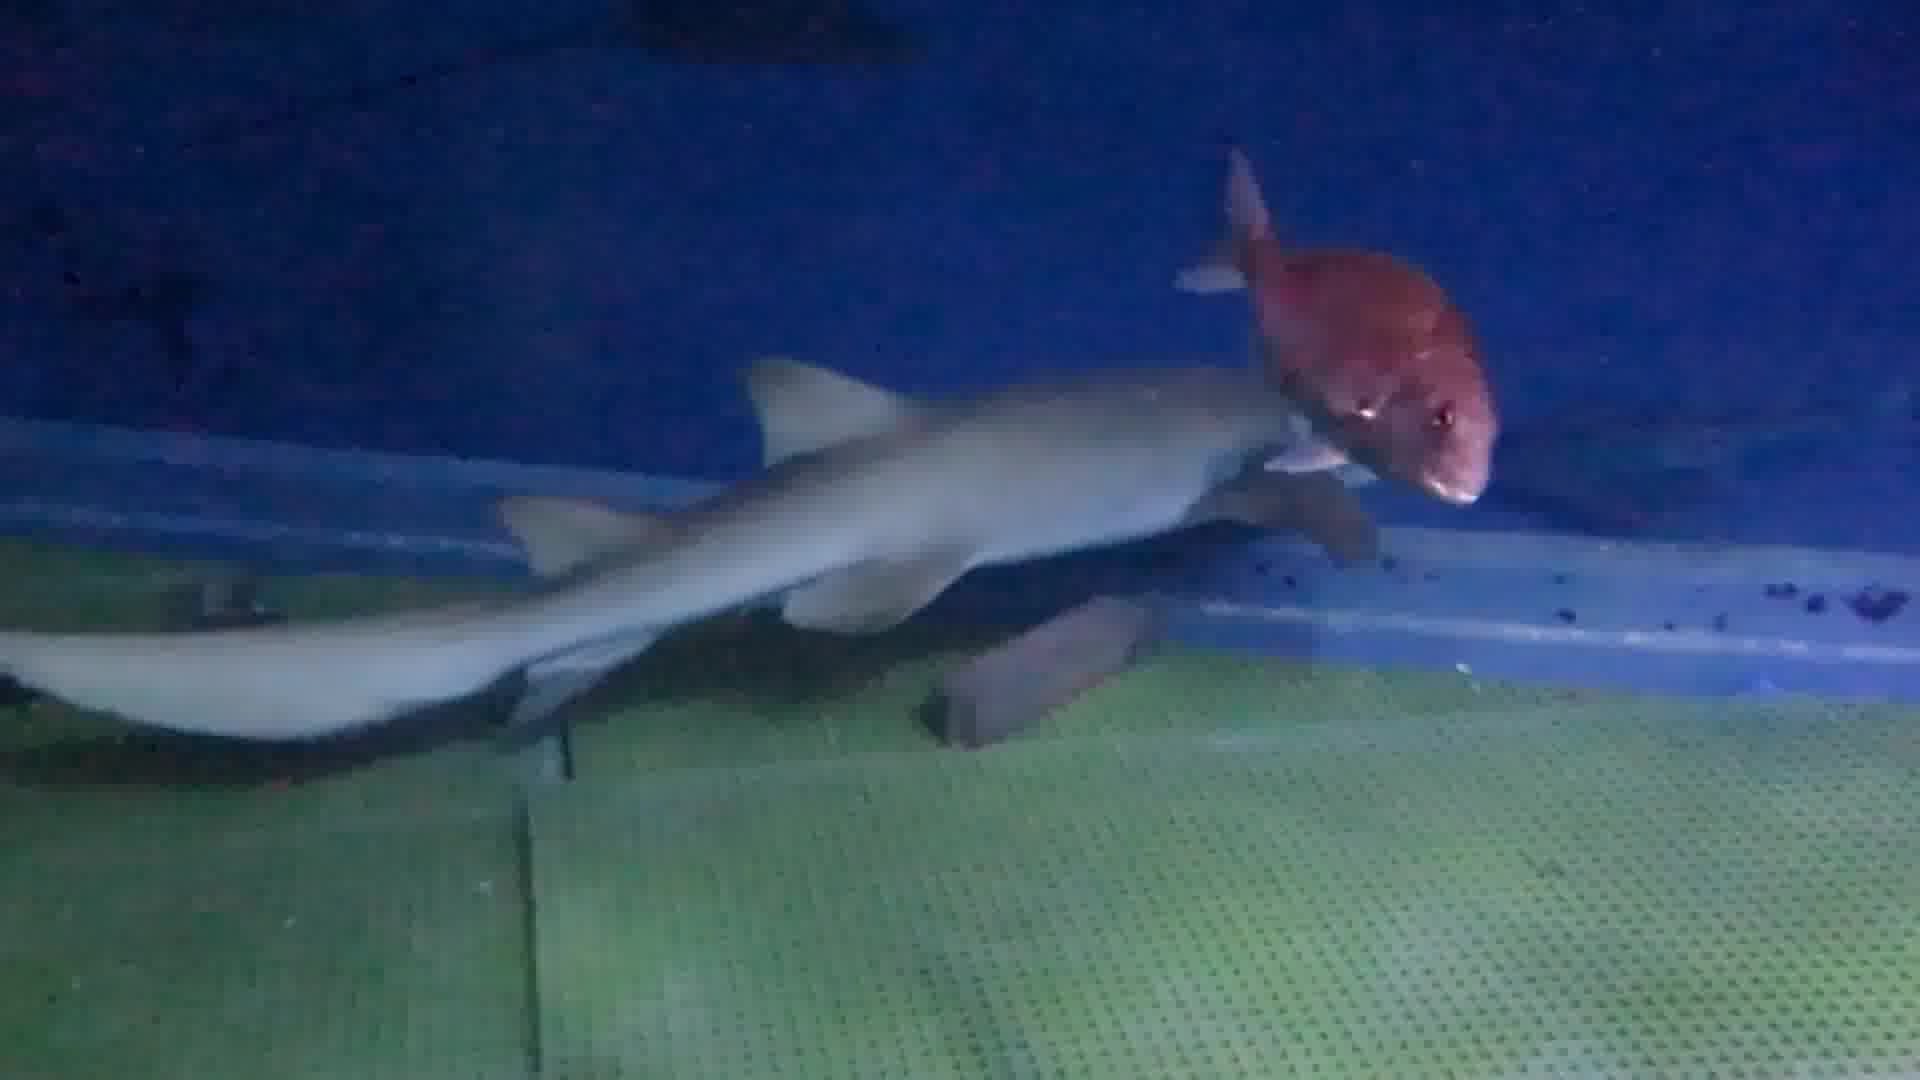Nebrius ferrugineus: (262, 349, 1305, 711)
